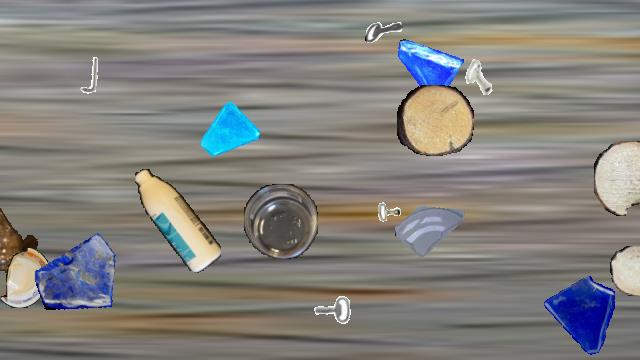glass: (35, 227, 121, 313), (540, 275, 624, 359), (395, 189, 467, 261), (394, 36, 464, 106), (201, 102, 259, 160)
metal: (454, 52, 506, 104), (303, 294, 353, 344), (362, 200, 410, 248), (68, 55, 108, 95), (365, 12, 403, 50)
plastic: (135, 169, 221, 273), (244, 184, 318, 258), (0, 174, 40, 272), (1, 248, 51, 308)
wood: (397, 85, 473, 155), (594, 141, 640, 215), (610, 246, 640, 296)
